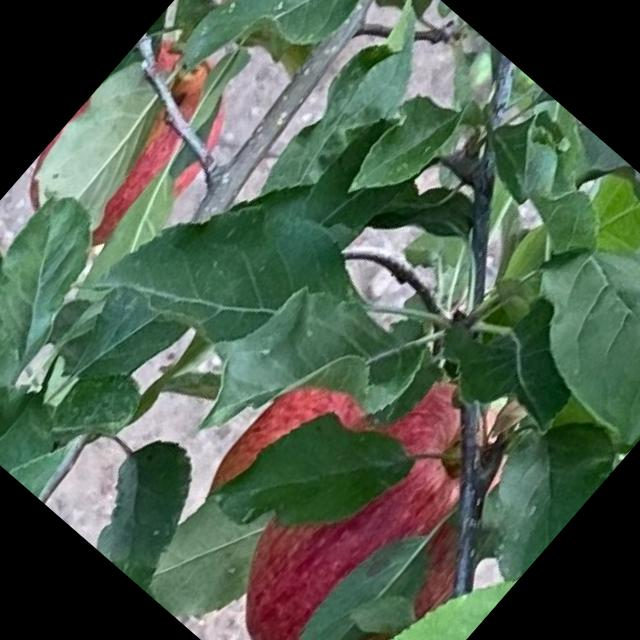Apples: (196, 348, 561, 639), (11, 22, 256, 276), (195, 358, 368, 540)
